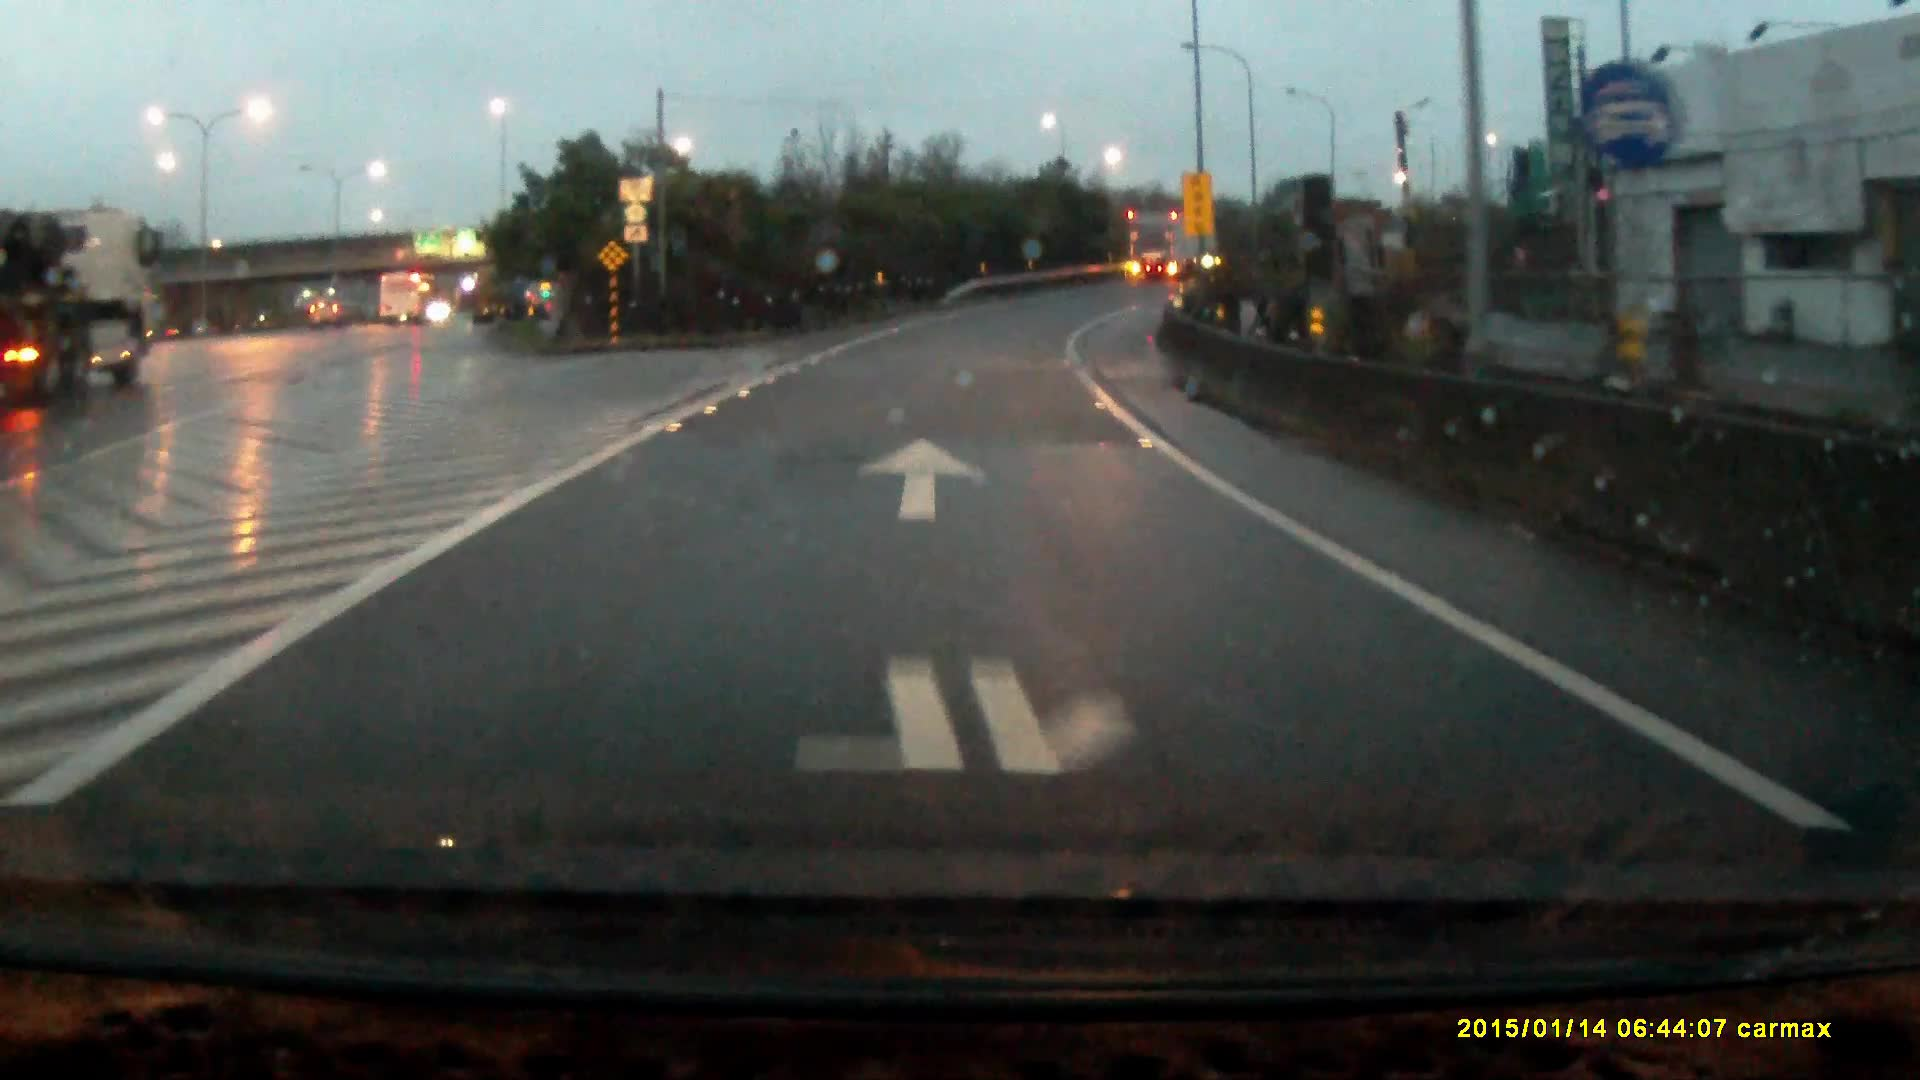vehicle: (1, 208, 162, 404), (1127, 208, 1226, 284), (380, 273, 429, 324), (311, 301, 342, 331)
